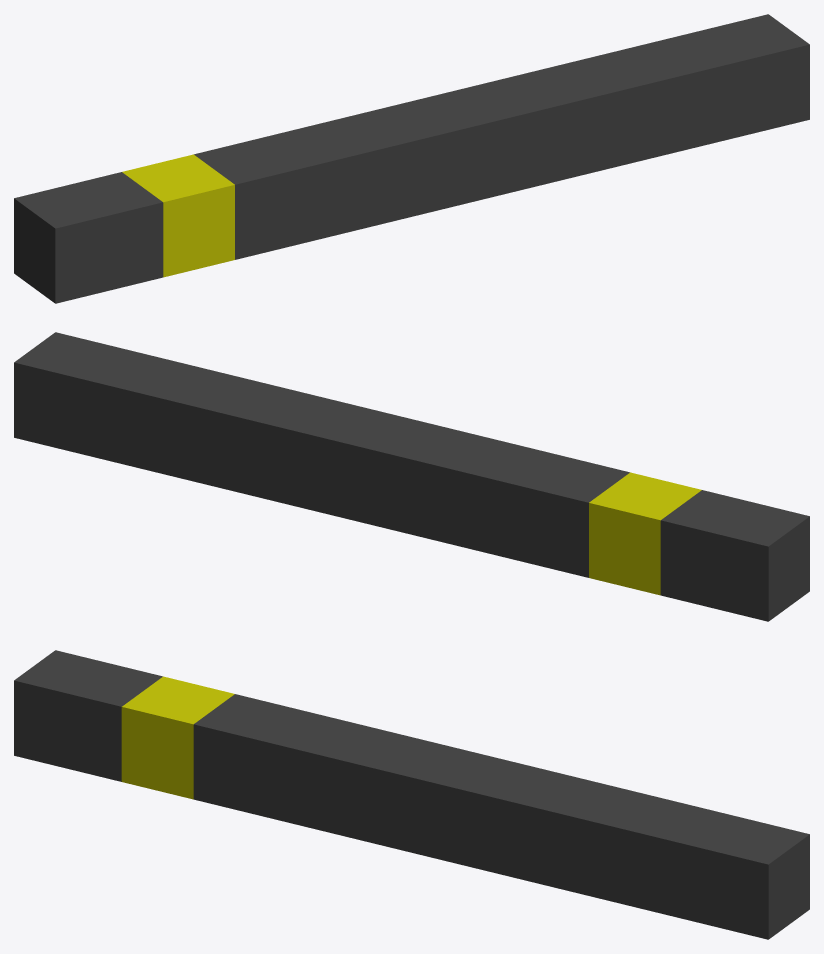
Rendered from MiddleTankCannon.obj.
3 views of the same model, one above another, from view 1: azimuth 30°, elevation 25°; view 2: azimuth 150°, elevation 25°; view 3: azimuth 330°, elevation 25° (orthographic).
Bounding box in the file's own units: 2.1 × 0.2 × 0.2.
Materials: 1 (1 with a texture image).
